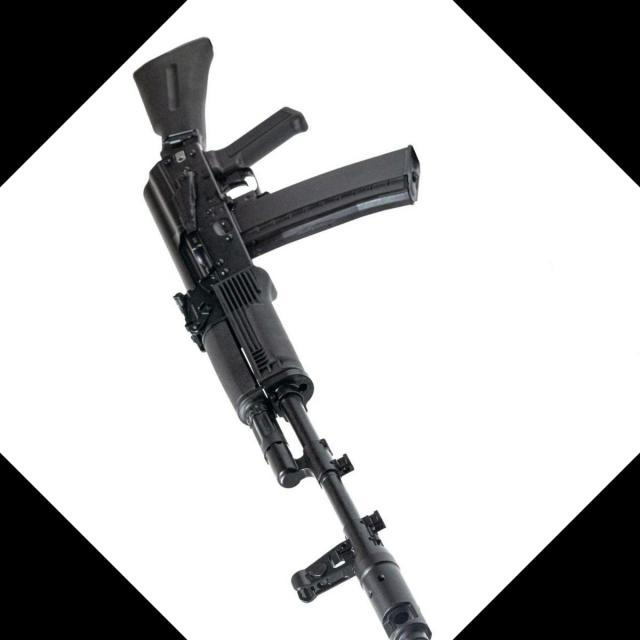weapon: (134, 33, 432, 640)
